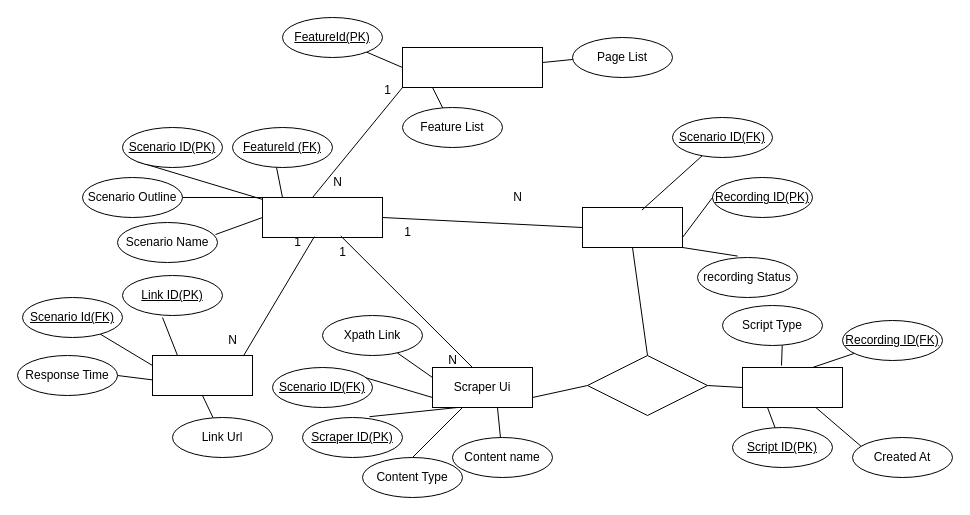
Image size: 970x515. Some labels were removed from this diagram. The shapes that lost their labels are listed below. From the top down, each one's centre as x and y in pixels, then its label:
pixel 472 67: Feature
pixel 322 217: Scenario
pixel 632 227: Recording
pixel 202 375: PingLink
pixel 647 385: Creates
pixel 792 387: Script
